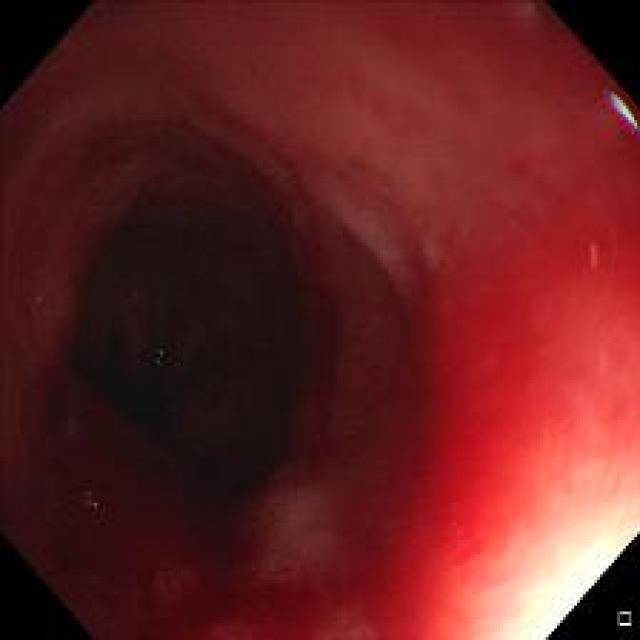color misalignment: (604, 88, 638, 141)
contrast: (81, 180, 311, 506)
saturation: (459, 446, 639, 638)
